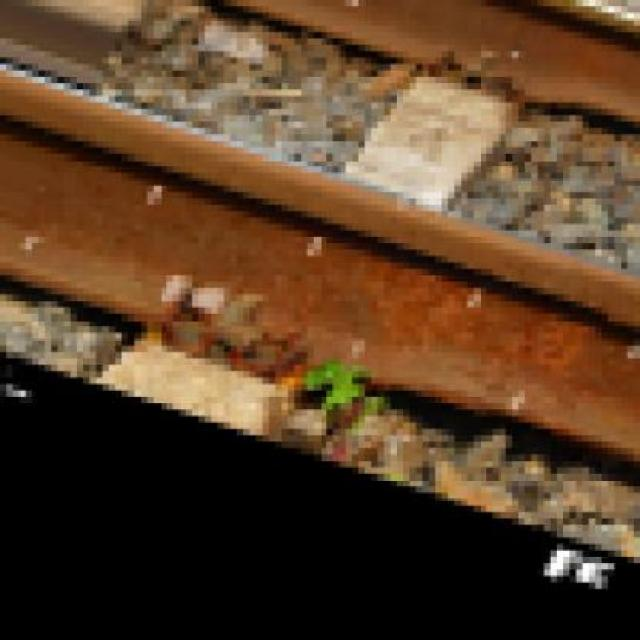defective: (0, 3, 640, 528)
